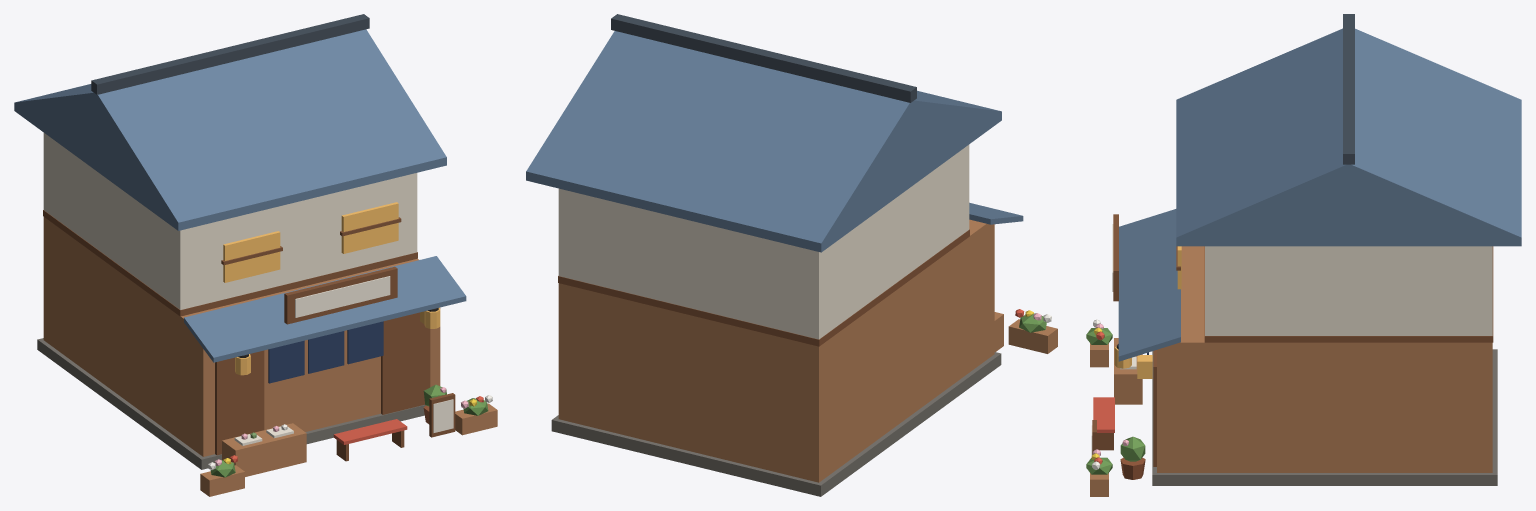
Rendered from chizurudo_s3.fbx.
The picture shows the model from 3 angles, left to right: view 1: azimuth 30°, elevation 25°; view 2: azimuth 150°, elevation 25°; view 3: azimuth 270°, elevation 25°; orthographic projection. The views are drawn at different scales.
Visible parts, largest first — view 1: chizurudo_s3; view 2: chizurudo_s3; view 3: chizurudo_s3.
Part boxes in pixels (x1=…): chizurudo_s3: x1=14, y1=14, x2=497, y2=496; chizurudo_s3: x1=526, y1=14, x2=1057, y2=496; chizurudo_s3: x1=1086, y1=14, x2=1521, y2=496.
Bounding box in the file's own units: 7.3 × 7.8 × 9.07.
2 materials, 2 textured.
